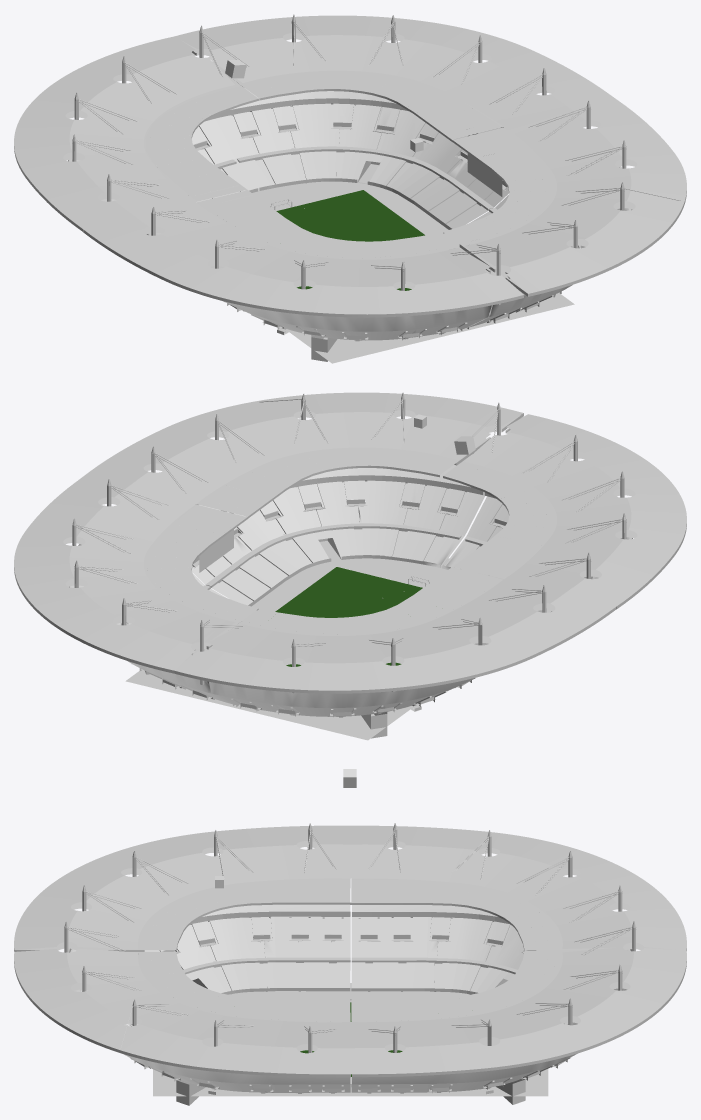
The model's file is Stade5.glb.
3 renders of one model, top to bottom at view 1: azimuth 30°, elevation 25°; view 2: azimuth 150°, elevation 25°; view 3: azimuth 270°, elevation 25°, orthographic. The views are drawn at different scales.
Parts seen in each view (by area): view 1: Boole, Plane.001, Plane; view 2: Boole, Plane.001, Plane; view 3: Boole.
Boxes of the visible parts, x1,y1,x2,y2 form: Boole: (14,14,686,363); Plane.001: (276,190,424,290); Plane: (467,135,502,196); Boole: (14,392,686,740); Plane.001: (275,567,422,666); Plane: (199,512,233,572); Boole: (14,823,686,1105).
Size of the model in its own units: 2.98 by 1.25 by 3.4.
